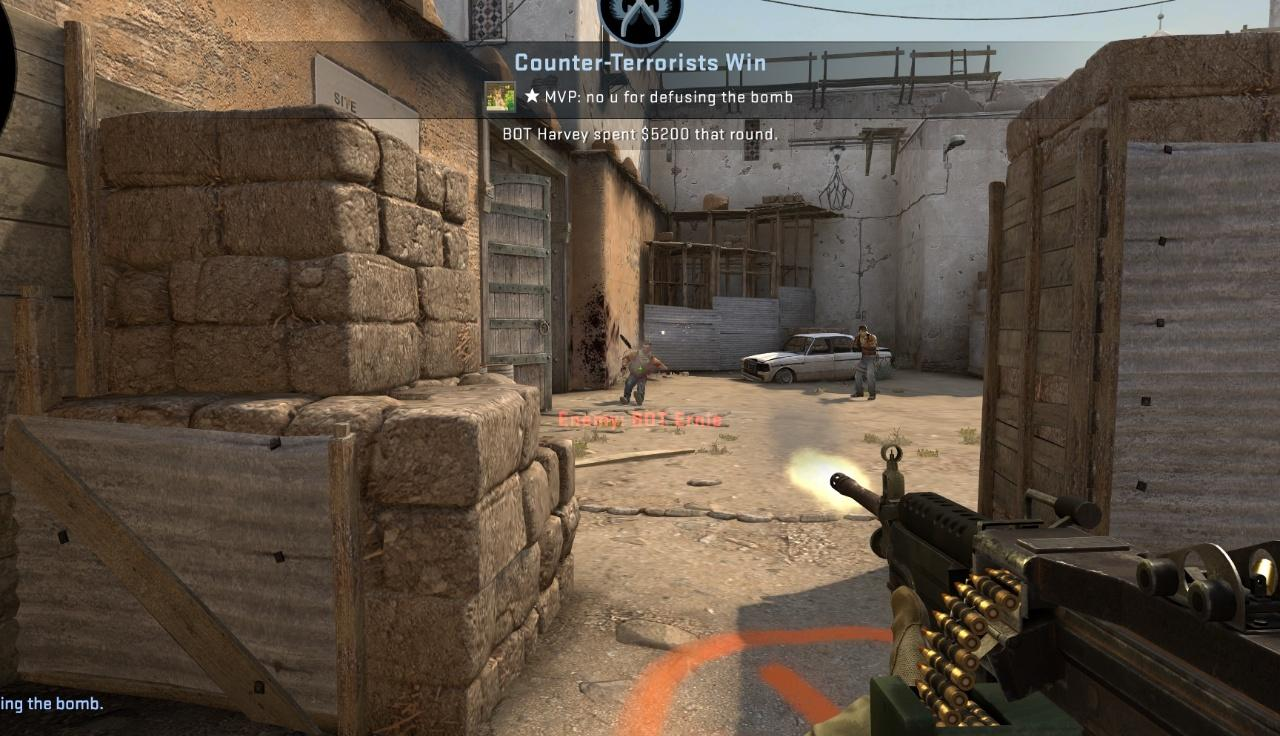rifle: (830, 445, 1280, 736)
tt: (853, 325, 877, 399)
tthead: (858, 326, 866, 335)
